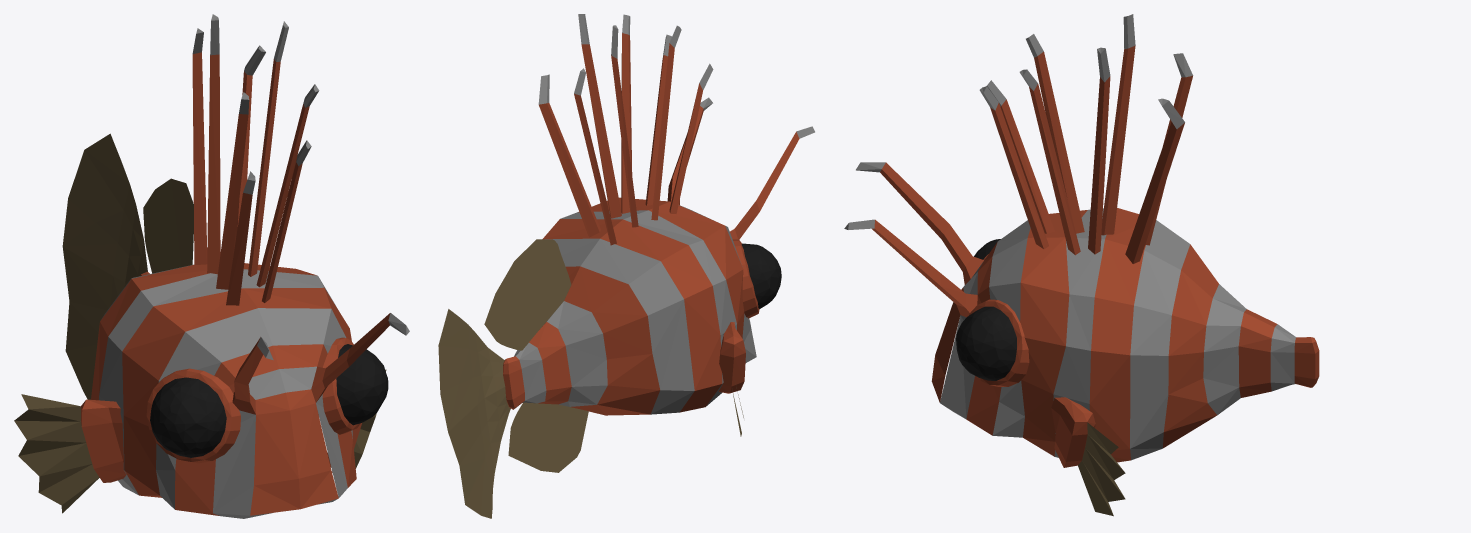
The model's file is lionfish.glb.
3 renders of one model, left to right at view 1: azimuth 30°, elevation 25°; view 2: azimuth 150°, elevation 25°; view 3: azimuth 270°, elevation 25°, orthographic. The views are drawn at different scales.
Parts seen in each view (by area): view 1: Lionfish_baked; view 2: Lionfish_baked; view 3: Lionfish_baked.
Boxes of the visible parts, box(x1,y1,x2,y2) form: Lionfish_baked: box(14, 14, 409, 518); Lionfish_baked: box(438, 14, 814, 518); Lionfish_baked: box(844, 14, 1319, 516).
Size of the model in its own units: 3.8 by 5.24 by 6.35.
